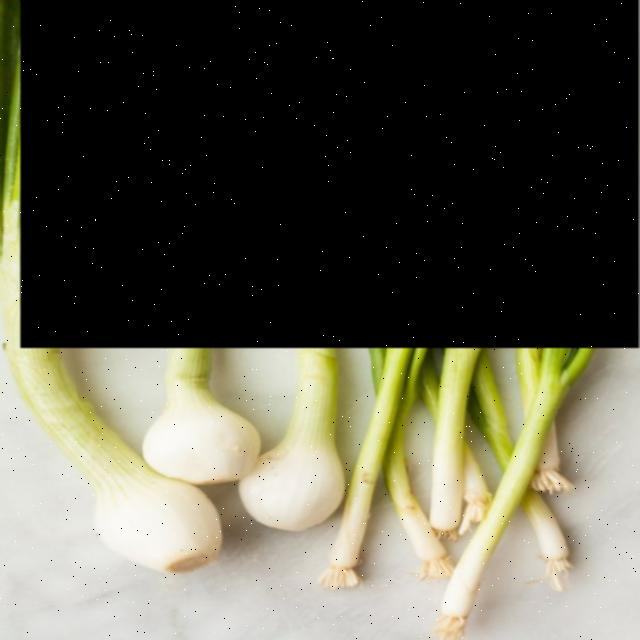Onion_Leaves: (21, 0, 640, 348)
